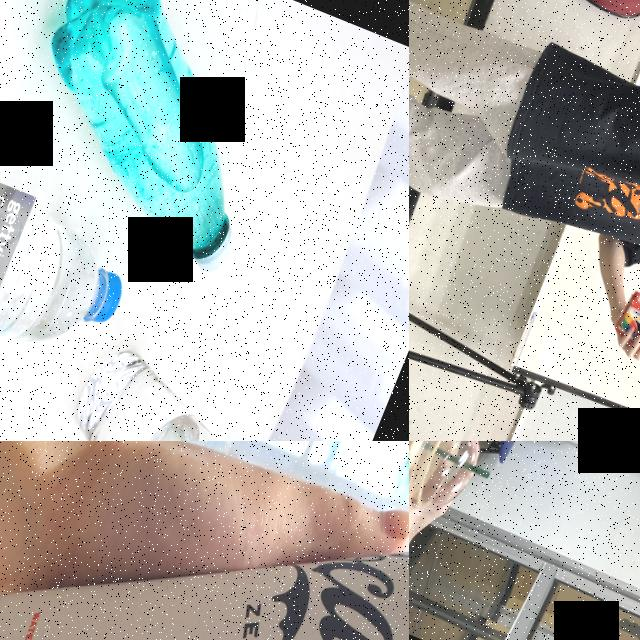bottle: (0, 0, 315, 278), (0, 149, 142, 401)
can: (0, 441, 409, 640)
cup: (409, 441, 488, 521)
